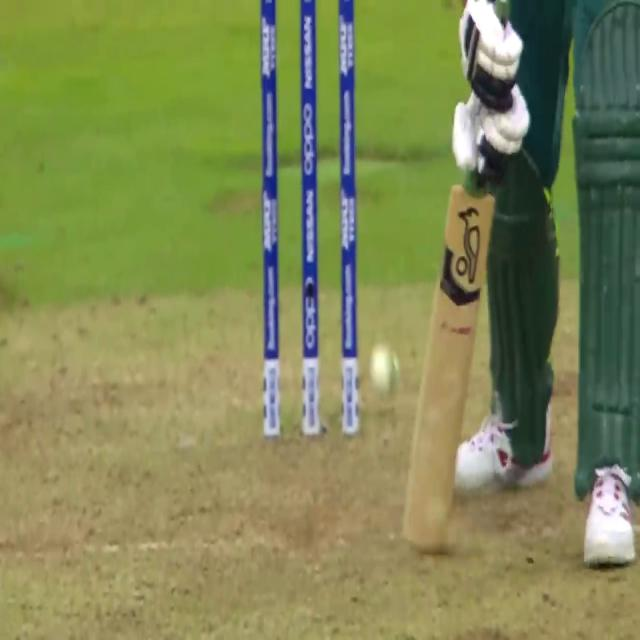ball: (361, 332, 413, 418)
